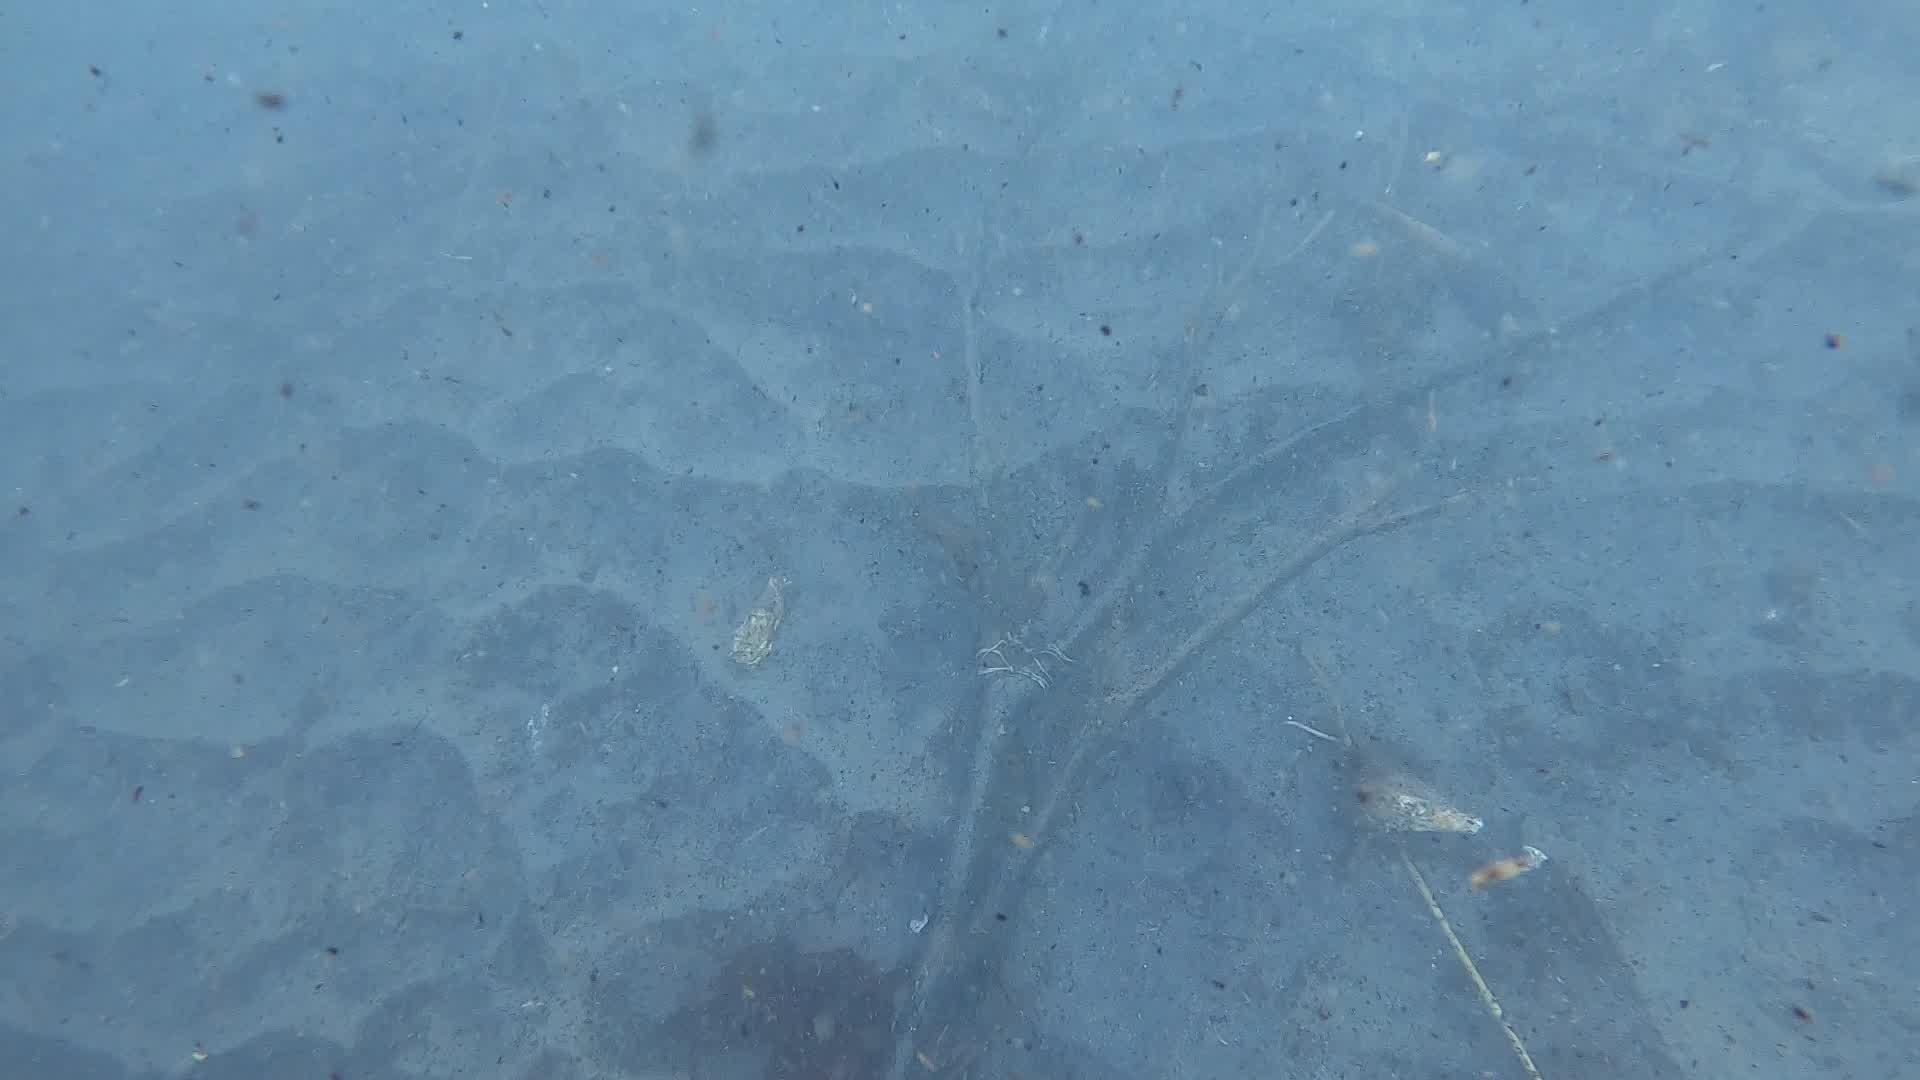wood: (880, 200, 1708, 1080)
